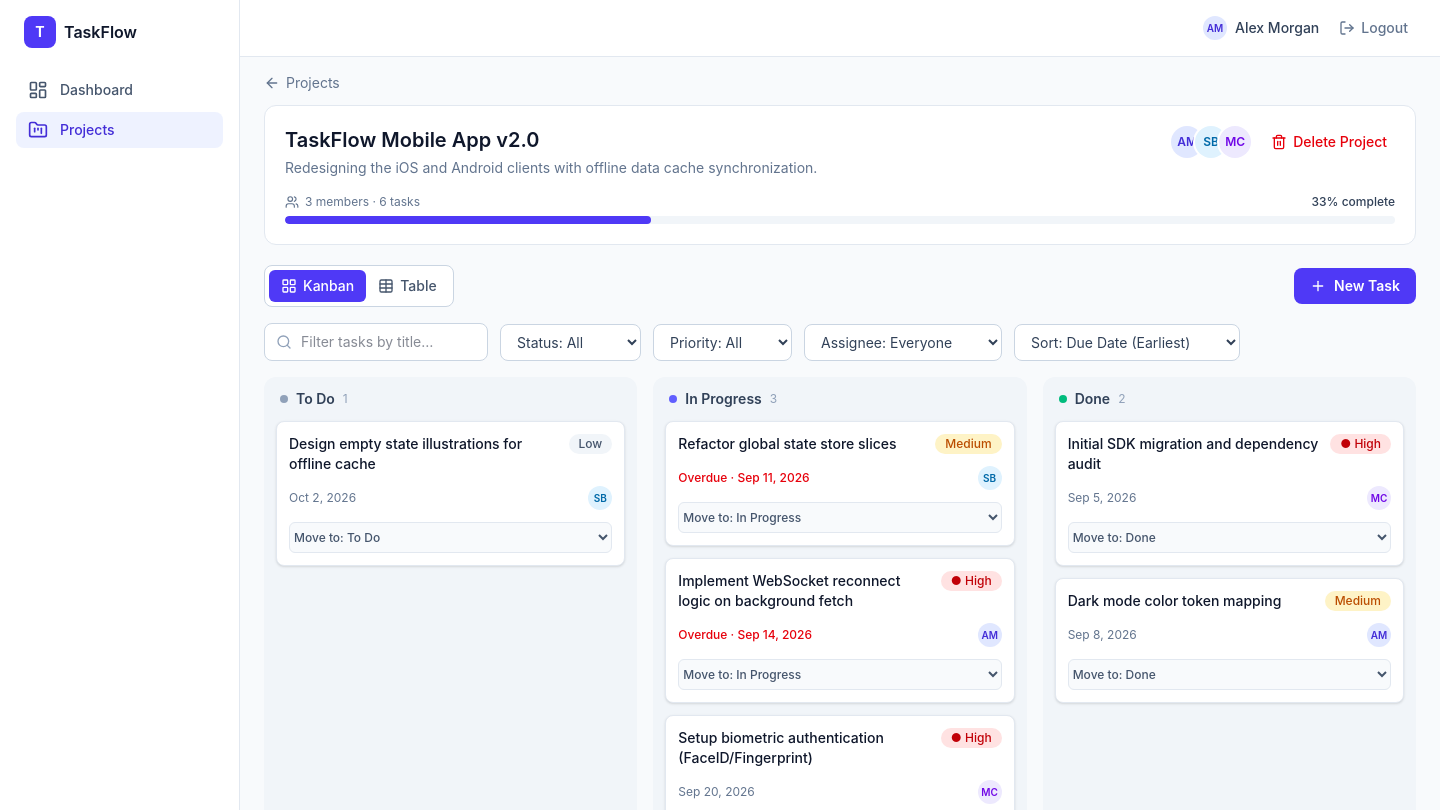
Test: ProjectDetailsPage › creates a new task from the project board
Expected: the button "Setup biometric authentication (FaceID/Fingerprint)" is shown, left=678, top=728, right=933, bottom=768
Click the button "New Task" at (1355, 286), box left=1294, top=268, right=1416, bottom=304
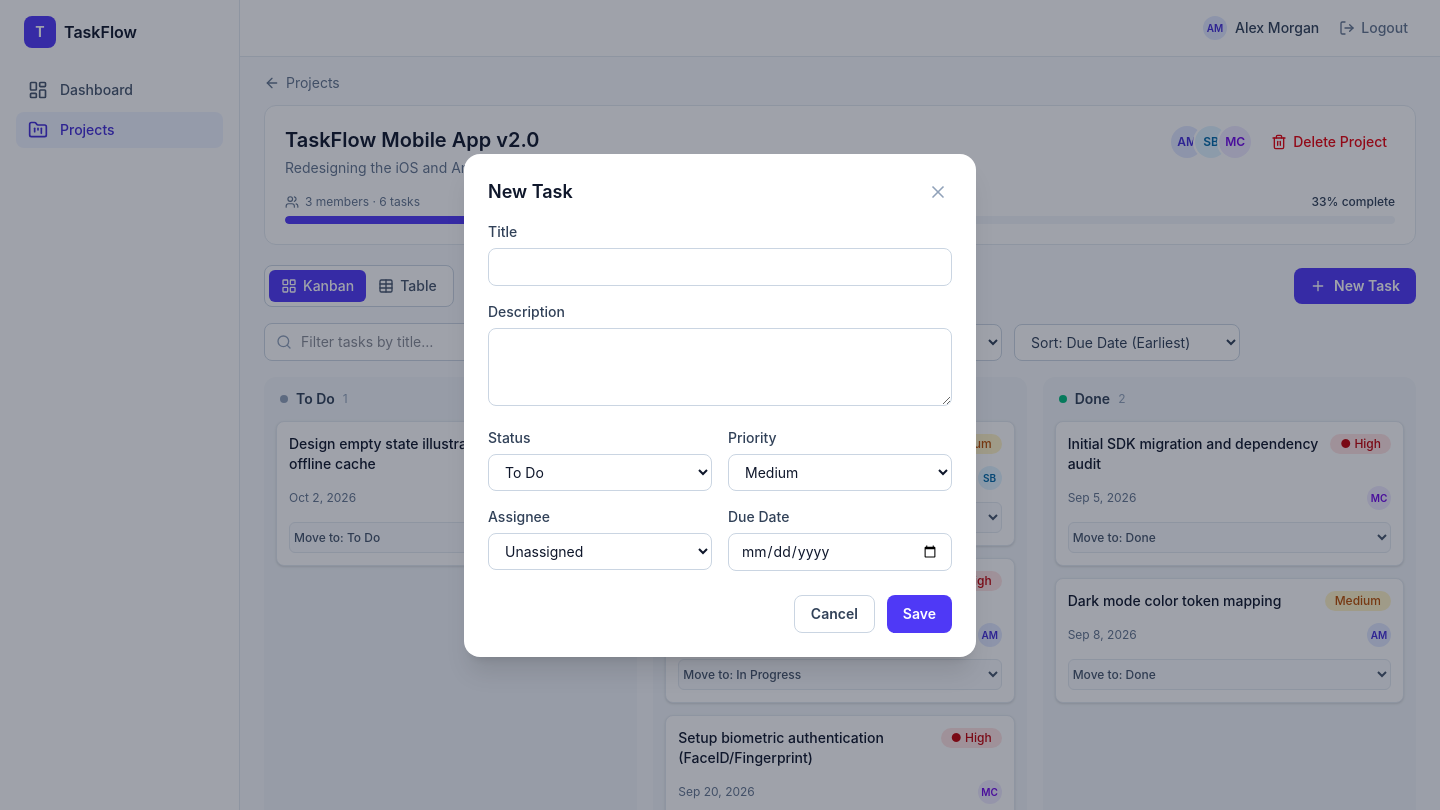
Type "Write release notes" into the field labelled "Title" at (720, 266), box left=488, top=248, right=952, bottom=286
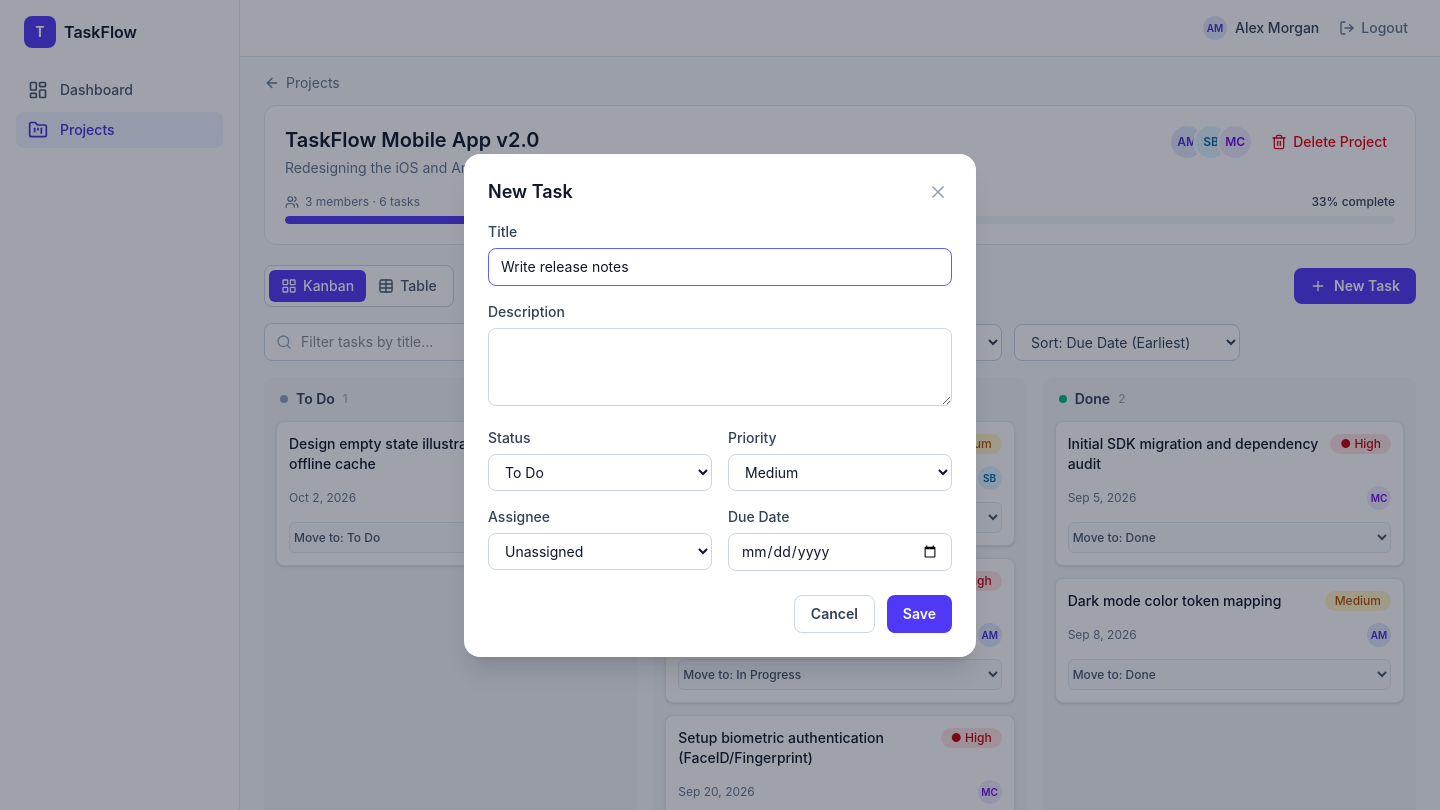
Type "2026-10-01" into the date field labelled "Due Date" at (840, 552), box left=728, top=532, right=952, bottom=570
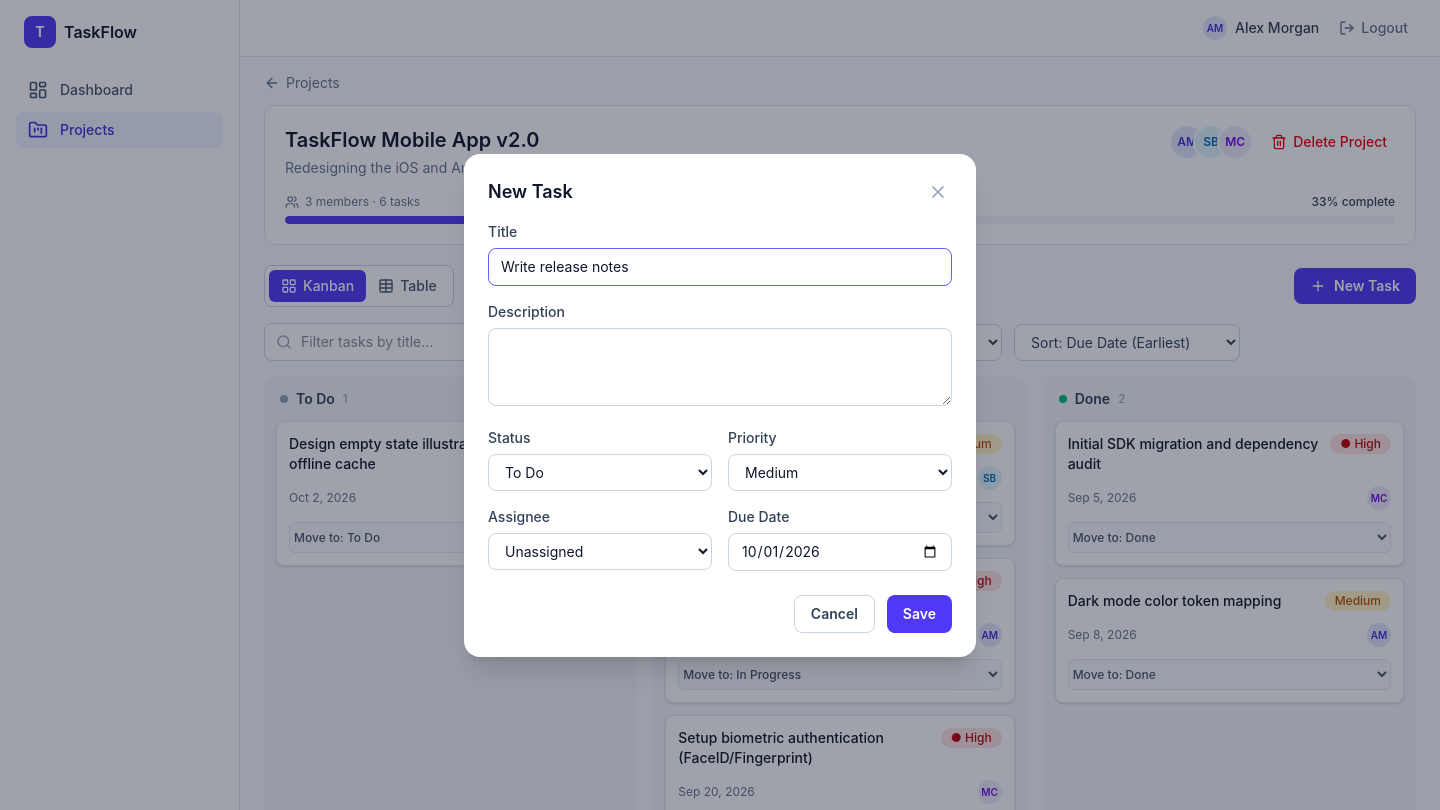
Click the button "Save" at (919, 614), box left=887, top=594, right=952, bottom=632
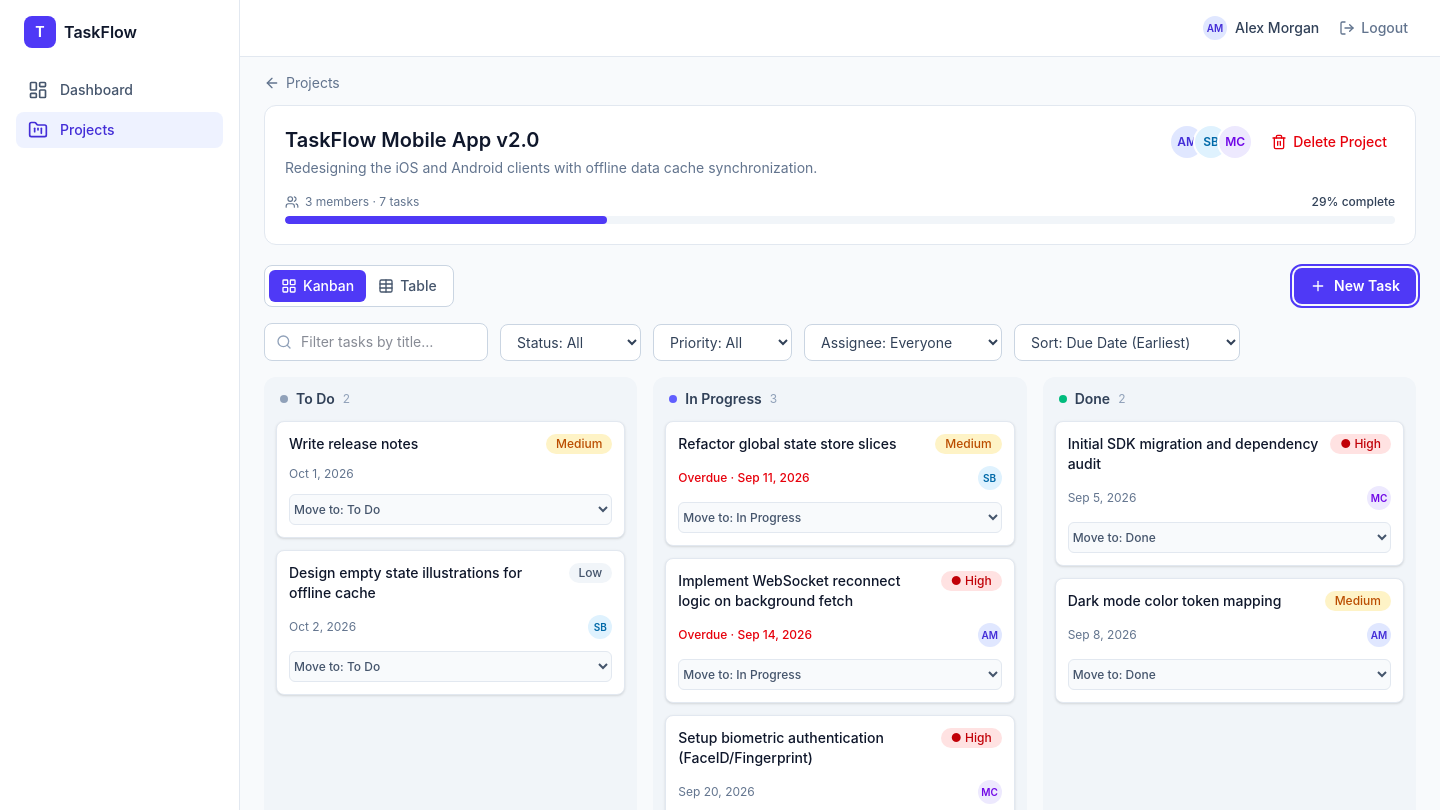
Expected: the button "Write release notes" is shown, left=289, top=434, right=418, bottom=454
